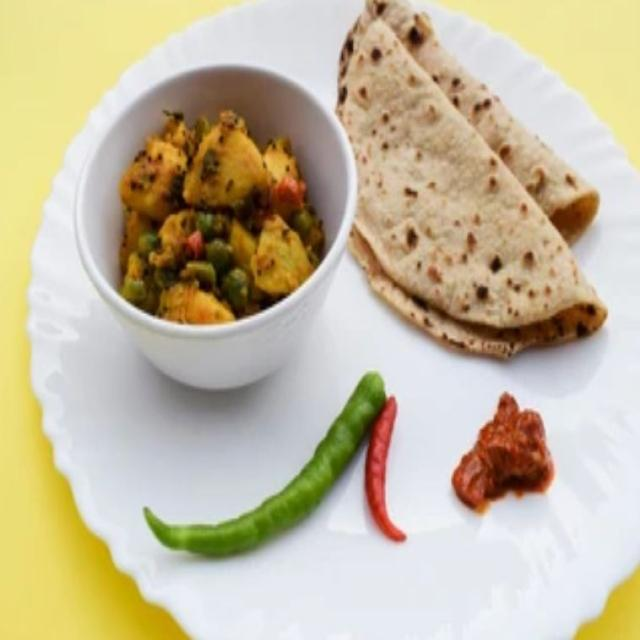CHAPATHI: (331, 6, 612, 366)
PICKLE: (450, 392, 554, 514)
VEGGIES: (102, 90, 341, 333)
